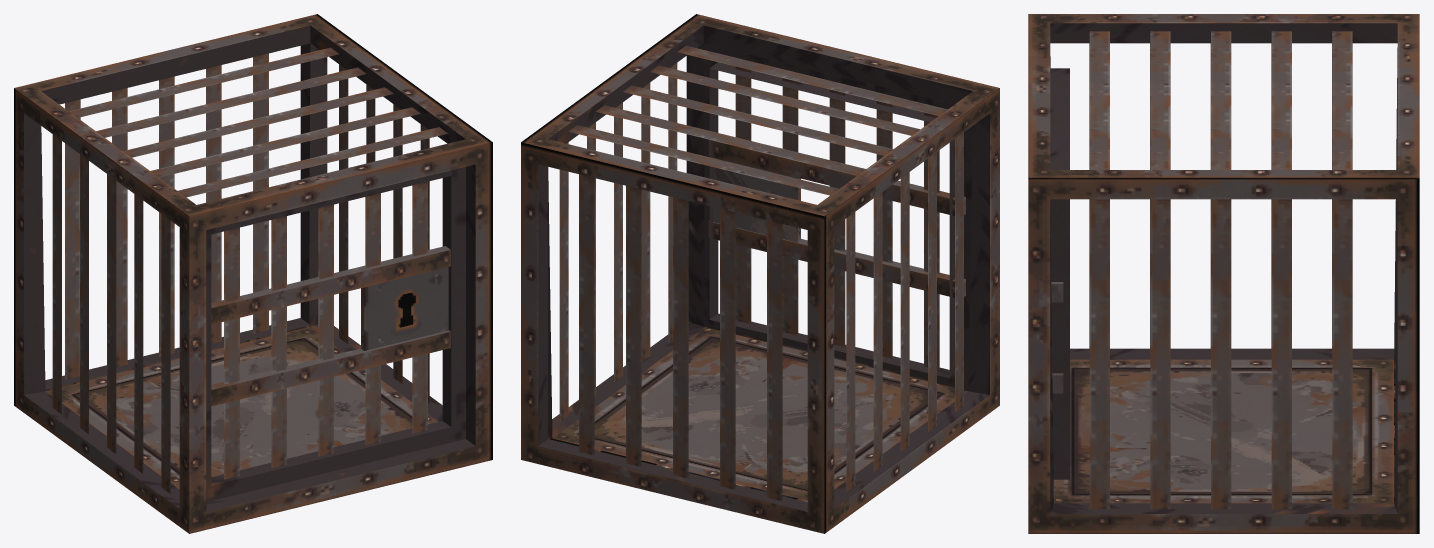
Rendered from Cage.fbx.
The picture shows the model from 3 angles, left to right: view 1: azimuth 30°, elevation 25°; view 2: azimuth 150°, elevation 25°; view 3: azimuth 270°, elevation 25°; orthographic projection. The views are drawn at different scales.
Visible parts, largest first — view 1: Cube.003; view 2: Cube.003; view 3: Cube.003.
Boxes of the visible parts, box(x1,y1,x2,y2) form: Cube.003: box(14, 14, 492, 533); Cube.003: box(521, 14, 999, 533); Cube.003: box(1028, 14, 1419, 533).
Size of the model in its own units: 68.68 by 68.68 by 68.68.
